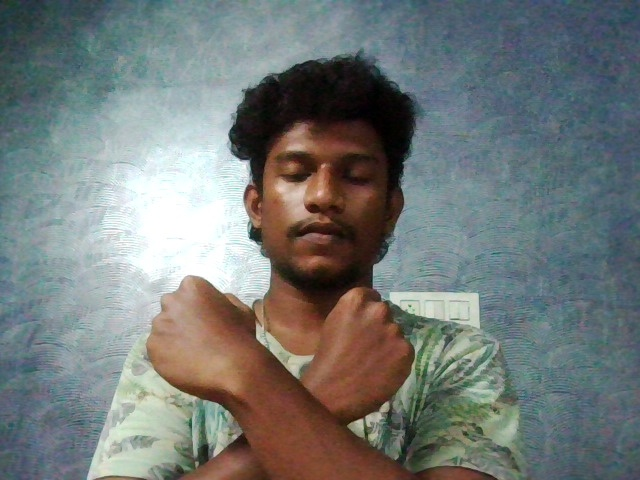danger: (132, 260, 443, 480)
